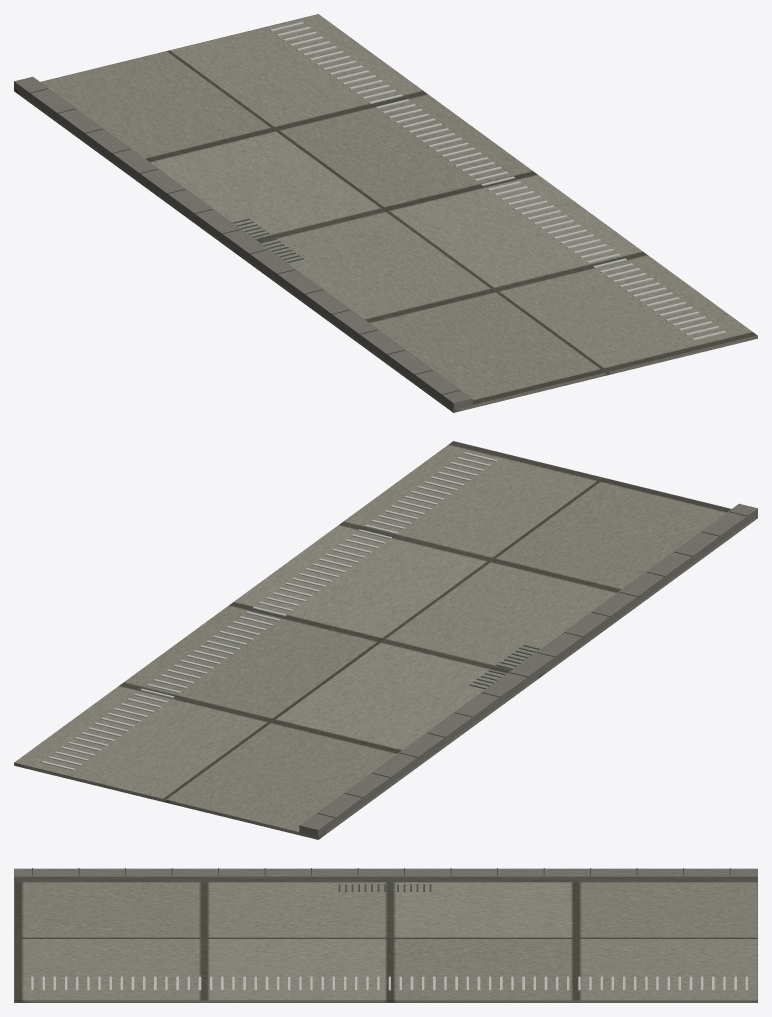
File: urban_sidewalk.glb
3 views of the same model, one above another, from view 1: azimuth 30°, elevation 25°; view 2: azimuth 150°, elevation 25°; view 3: azimuth 270°, elevation 25° (orthographic). The views are drawn at different scales.
Parts seen in each view (by area): view 1: UrbanPavers, UrbanStone, UrbanPaleConcrete, UrbanRecess; view 2: UrbanPavers, UrbanStone, UrbanPaleConcrete, UrbanRecess; view 3: UrbanPavers, UrbanStone, UrbanPaleConcrete, UrbanRecess.
Part boxes in pixels (box(x1,y1,x2,y2)): UrbanPavers: box(14, 14, 757, 412); UrbanStone: box(14, 76, 472, 412); UrbanPaleConcrete: box(270, 22, 725, 340); UrbanRecess: box(30, 88, 459, 394); UrbanPavers: box(14, 441, 757, 839); UrbanStone: box(299, 503, 757, 839); UrbanPaleConcrete: box(41, 452, 497, 770); UrbanRecess: box(317, 511, 747, 817); UrbanPavers: box(14, 882, 757, 1002); UrbanStone: box(14, 868, 757, 882); UrbanPaleConcrete: box(31, 976, 747, 990); UrbanRecess: box(32, 868, 730, 891).
Size of the model in its own units: 3.21 by 0.1055 by 8.
Materials: 4 (2 with a texture image).
